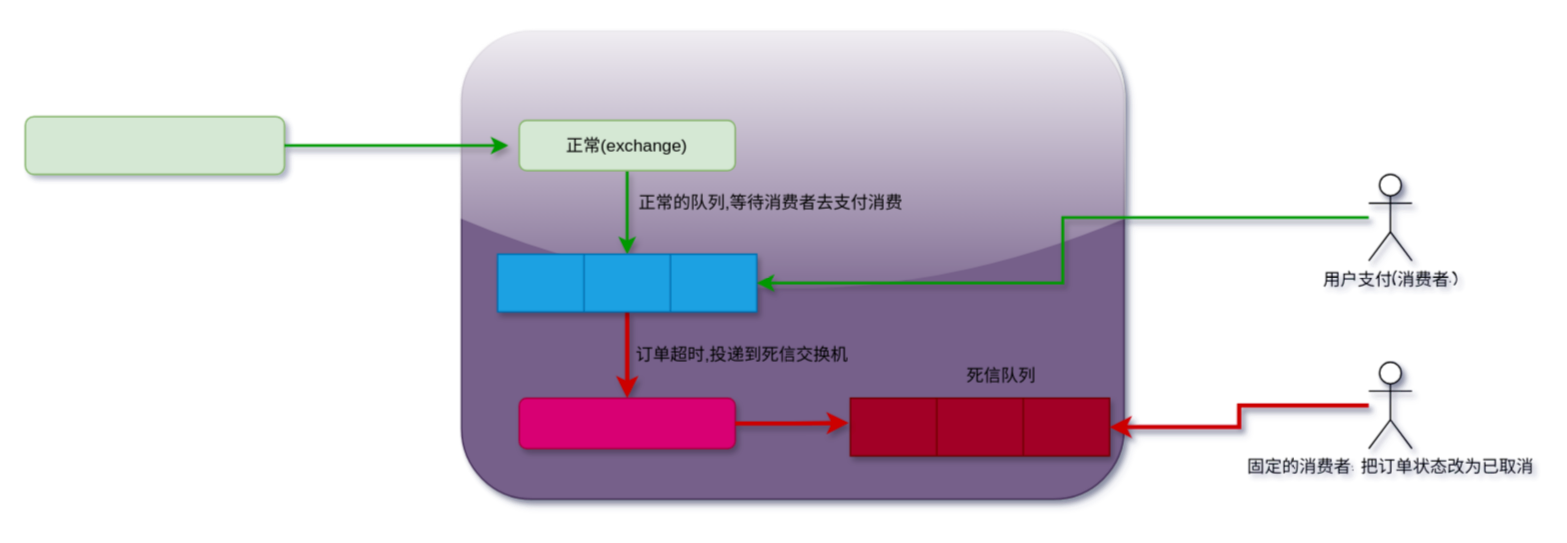
Some shapes in this 1567 by 543 pixel diagram are drawn without their labels. Each missing label, with the centre of its shape:
死信(exchange): the point at 628,425
用户下订单(生产者): the point at 154,144
